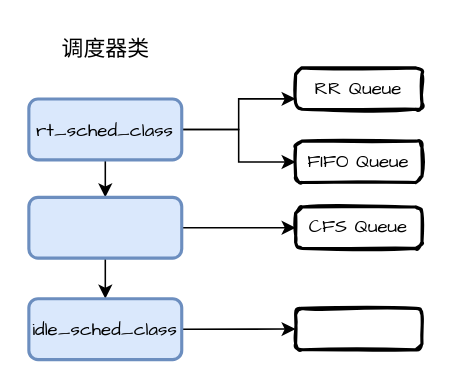
The diagram is 449 pixels wide and 387 high, and some of its shapes have lost their labels. Here are the shapes that lost their labels. From the top down, the centre of each, then its label:
[105,227]: fair_sched_class
[358,328]: IDLE Task
